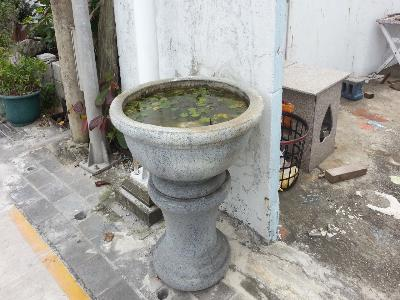bowl: (107, 75, 265, 290)
